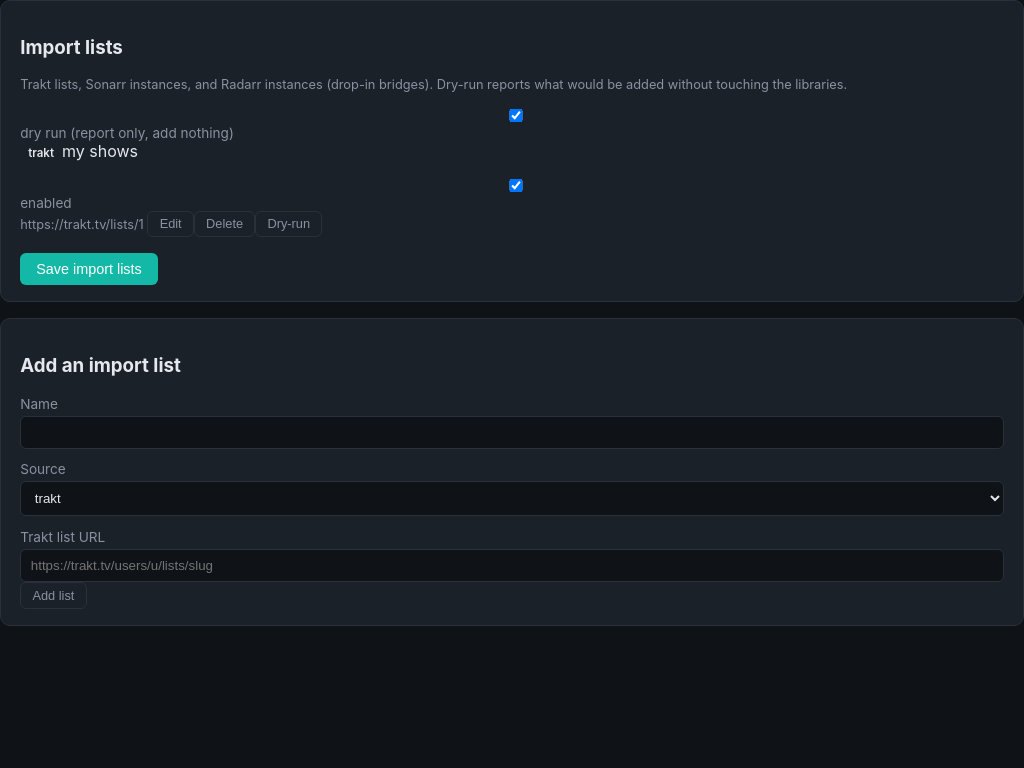
Test case: ImportListsSection › runs a dry-run import through the P5 import endpoint
Expected: the element with test id "il-item-1" is shown, [20, 141, 1004, 237]
Click the button with test id "il-run-1": x=289, y=224 [255, 211, 322, 237]
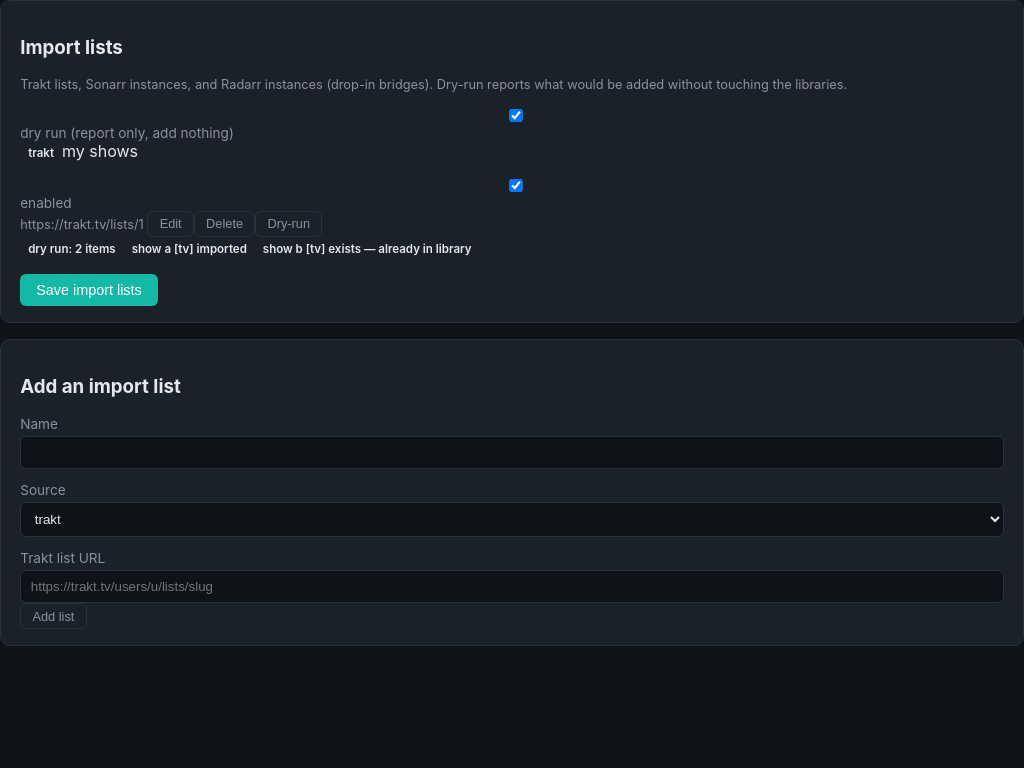
Result: the text with test id "il-run-summary" reads "dry run: 2 items" at [28, 242, 116, 256]
Result: the text with test id "il-run-item-imported" shows "Show A" at [132, 242, 171, 256]
Result: the text with test id "il-run-item-exists" reads "Show B [tv] exists — already in library" at [255, 241, 480, 258]
